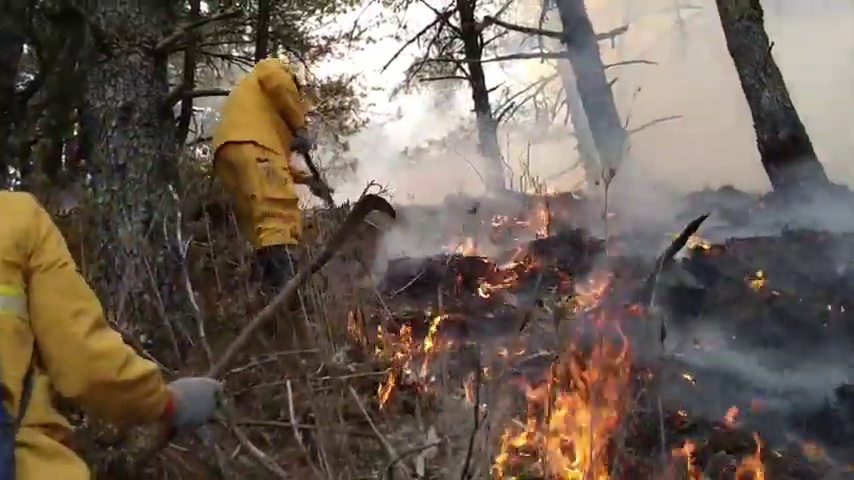fire: (495, 351, 627, 480), (372, 318, 437, 364), (740, 443, 762, 480), (375, 375, 396, 406), (475, 278, 492, 295), (536, 212, 548, 235), (748, 274, 764, 291)
